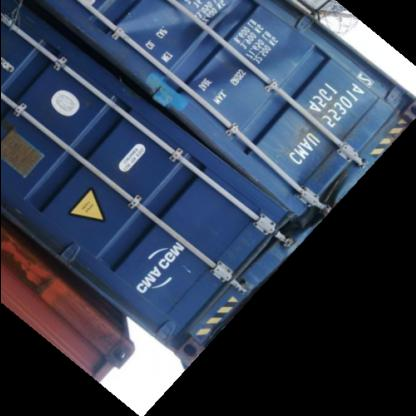Damage: (20, 2, 292, 122), (270, 173, 352, 235)
